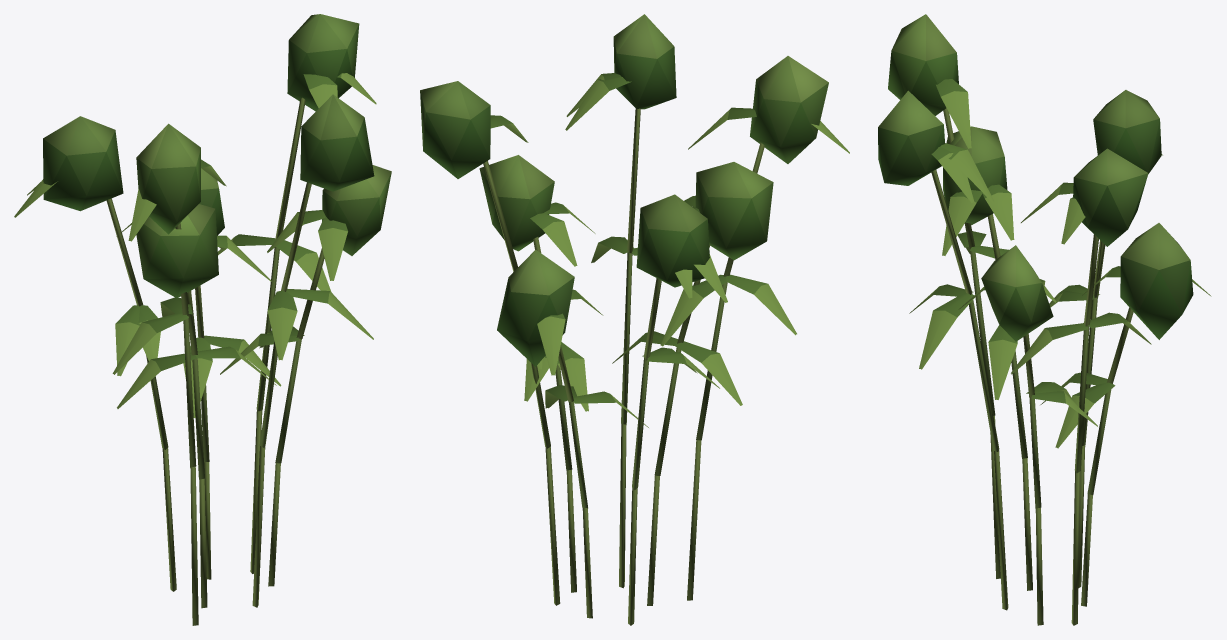
The model's file is env_bamboo.glb.
The picture shows the model from 3 angles, left to right: view 1: azimuth 30°, elevation 25°; view 2: azimuth 150°, elevation 25°; view 3: azimuth 270°, elevation 25°; orthographic projection. The views are drawn at different scales.
Parts seen in each view (by area): view 1: env_bamboo; view 2: env_bamboo; view 3: env_bamboo.
Part boxes in pixels (x1,y1,x2,y2): env_bamboo: (14, 14, 391, 625); env_bamboo: (420, 14, 849, 625); env_bamboo: (878, 14, 1211, 625).
Size of the model in its own units: 8.49 by 13.18 by 7.5.
